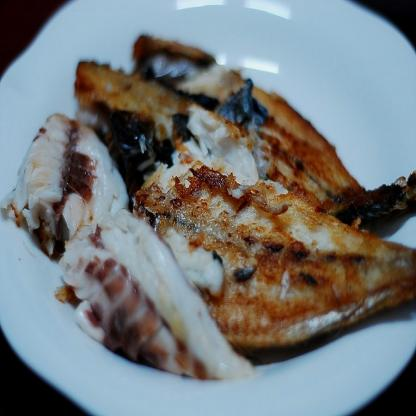Peixe: (0, 29, 416, 388)
